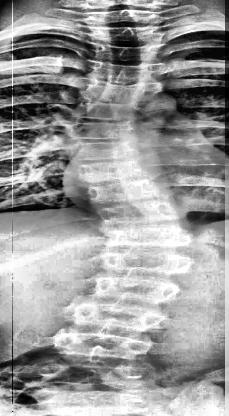Vertebrae: (38, 356, 156, 396), (52, 324, 154, 362), (74, 298, 168, 332), (86, 272, 180, 304), (99, 248, 195, 278), (94, 200, 184, 231), (98, 228, 192, 256), (80, 175, 173, 203), (74, 160, 170, 184), (73, 138, 153, 164), (87, 58, 159, 86), (68, 98, 145, 124), (65, 116, 139, 142), (87, 24, 166, 48), (82, 7, 164, 29), (86, 42, 166, 64), (80, 81, 148, 105)
